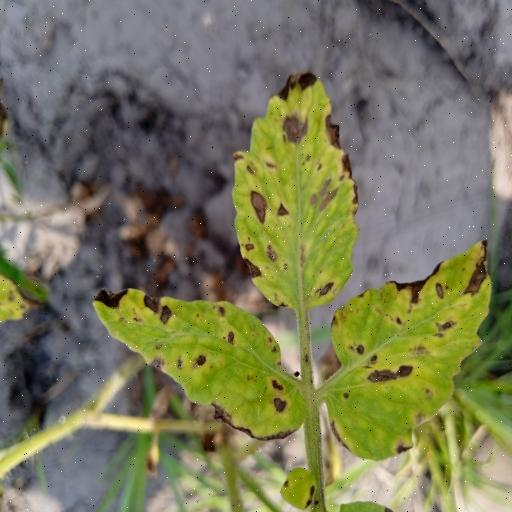Tomato_Brown_Spots: (323, 231, 496, 463), (91, 283, 313, 449), (232, 65, 361, 312)
